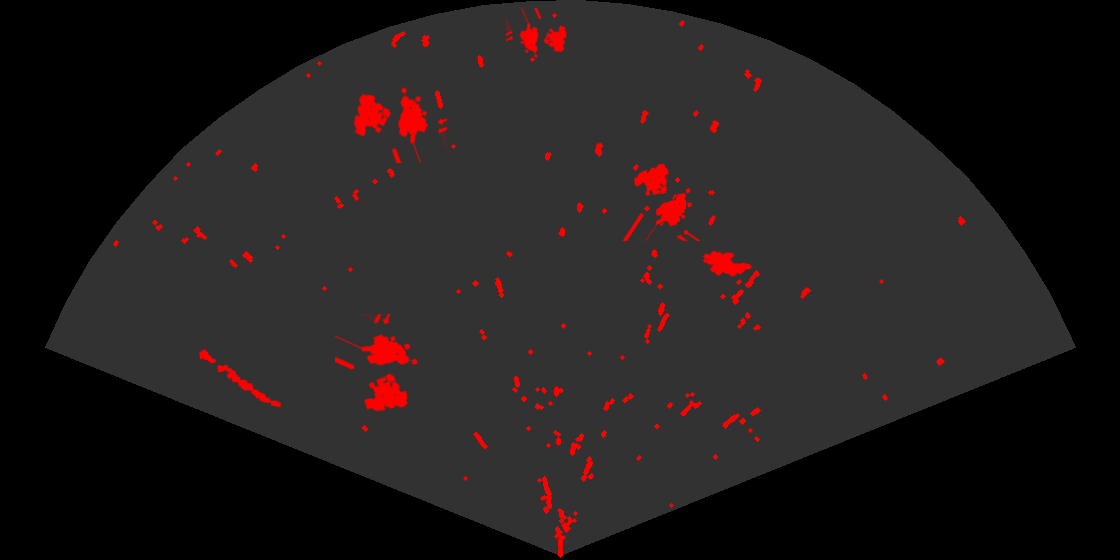AUV: (701, 249, 754, 278)
cage: (335, 314, 420, 413), (352, 86, 447, 163), (621, 162, 702, 241), (506, 8, 569, 60)
chain: (197, 348, 283, 409)
